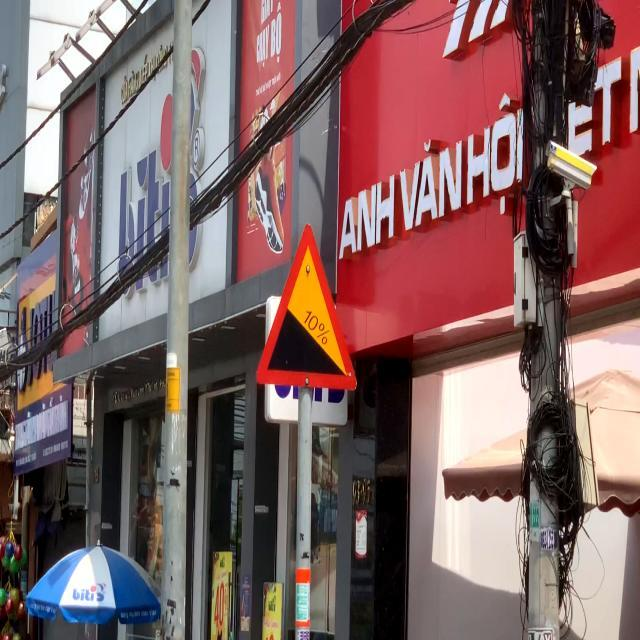W-220: (256, 222, 356, 389)
